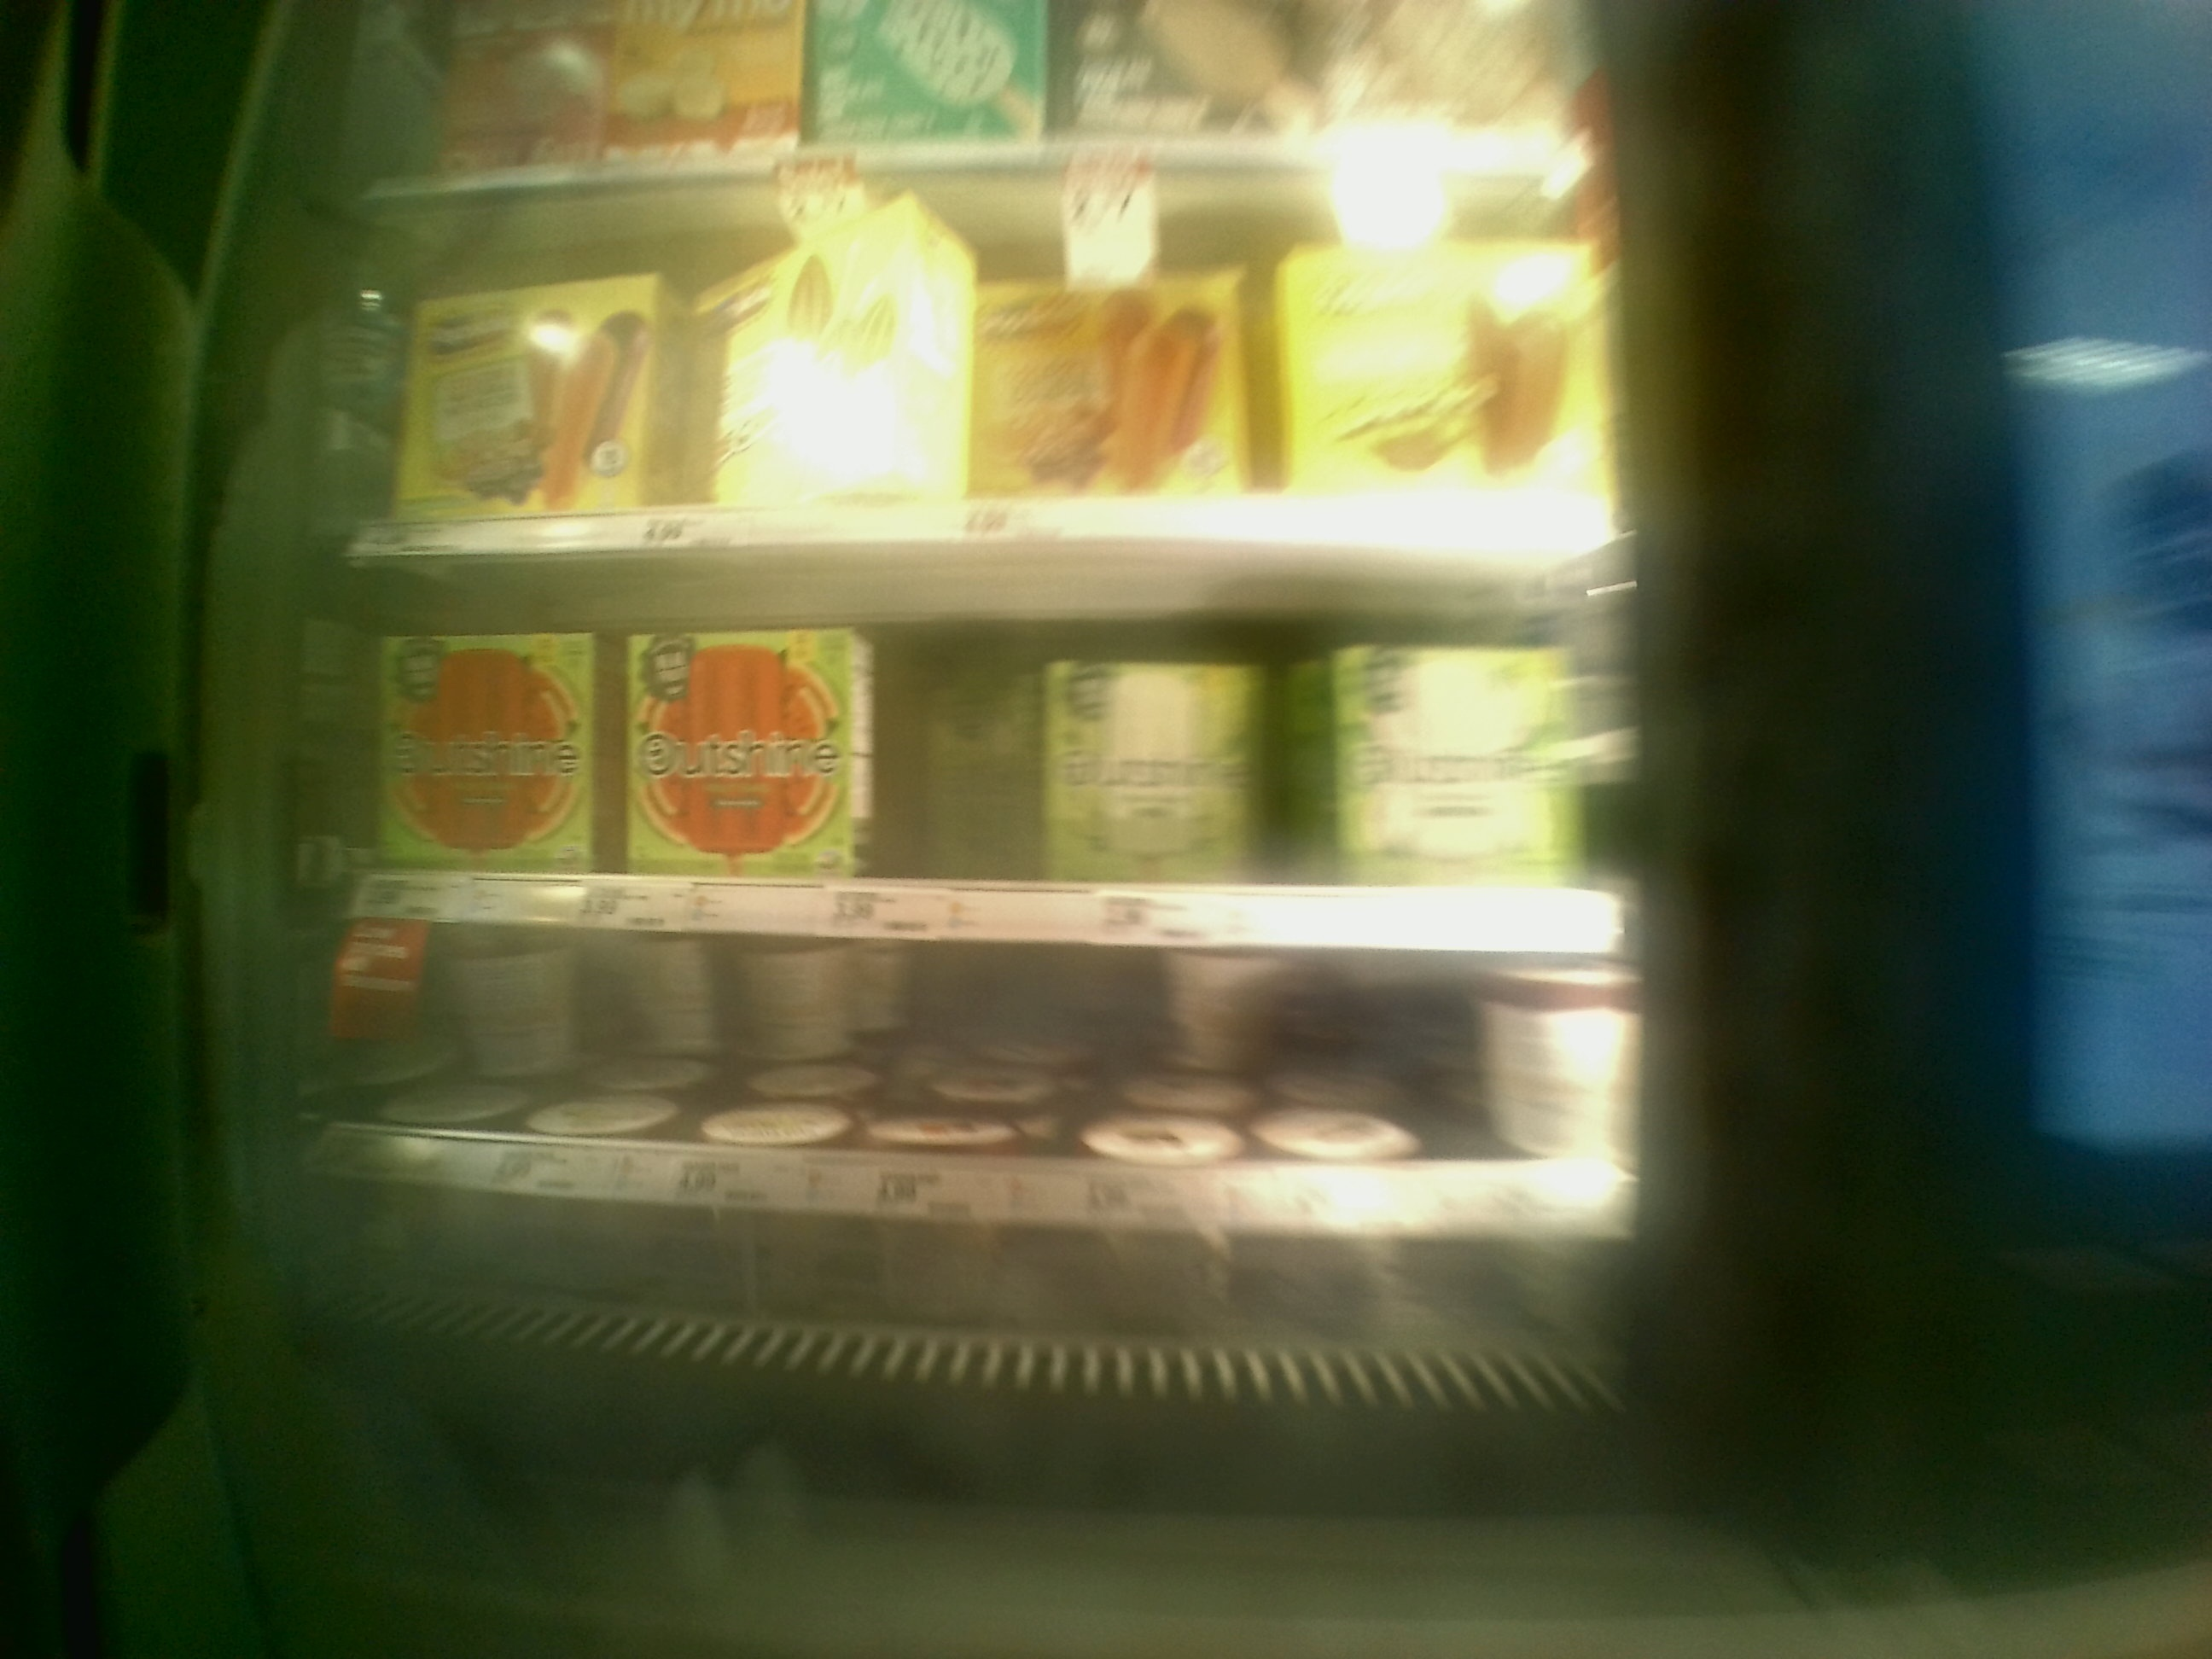ice-cream-shelf: (348, 552, 1630, 945), (361, 204, 1622, 551), (341, 924, 1646, 1220)
